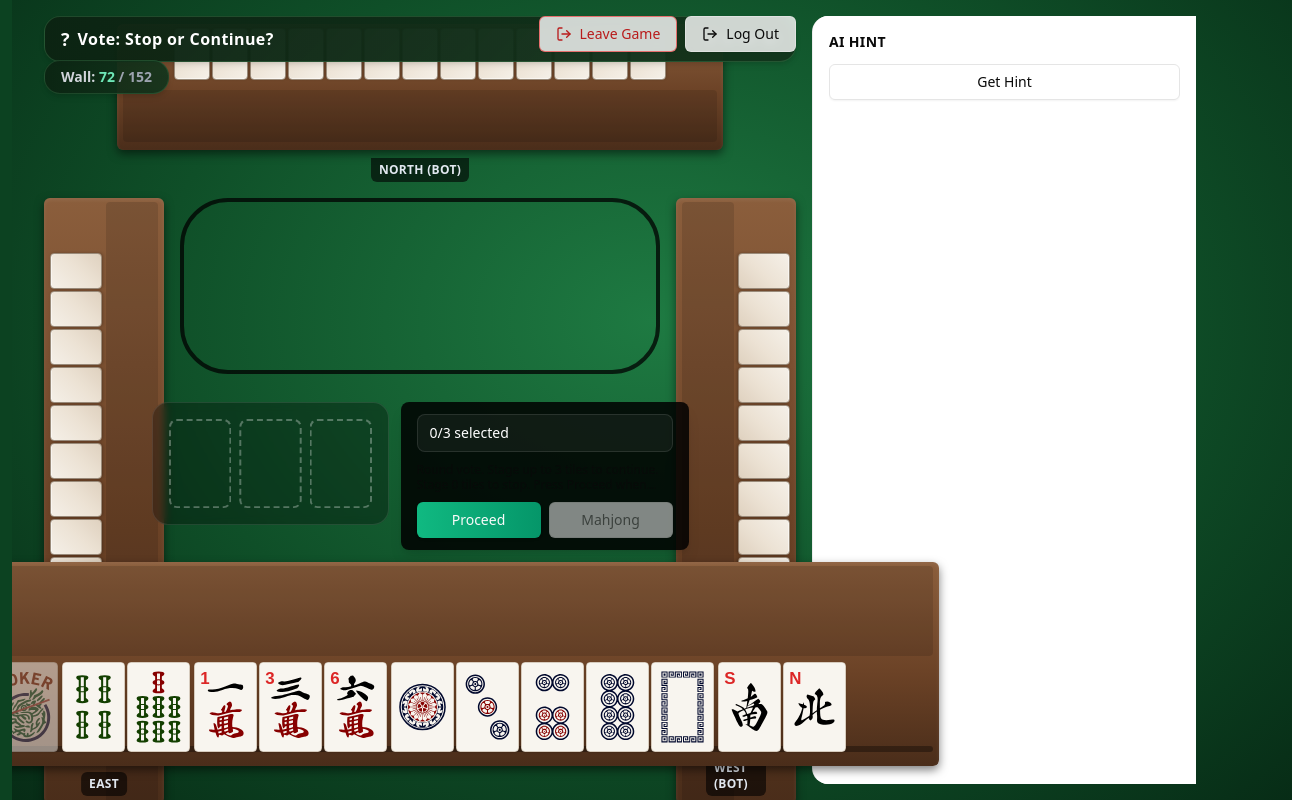
Scenario: US-005: Charleston Voting (Stop/Continue) › Test 2: Vote submission (AC-2, AC-3) › shows "You voted to STOP" message after voting Stop
Click the button with test id "proceed-button" at (478, 520), box [416,502,540,538]
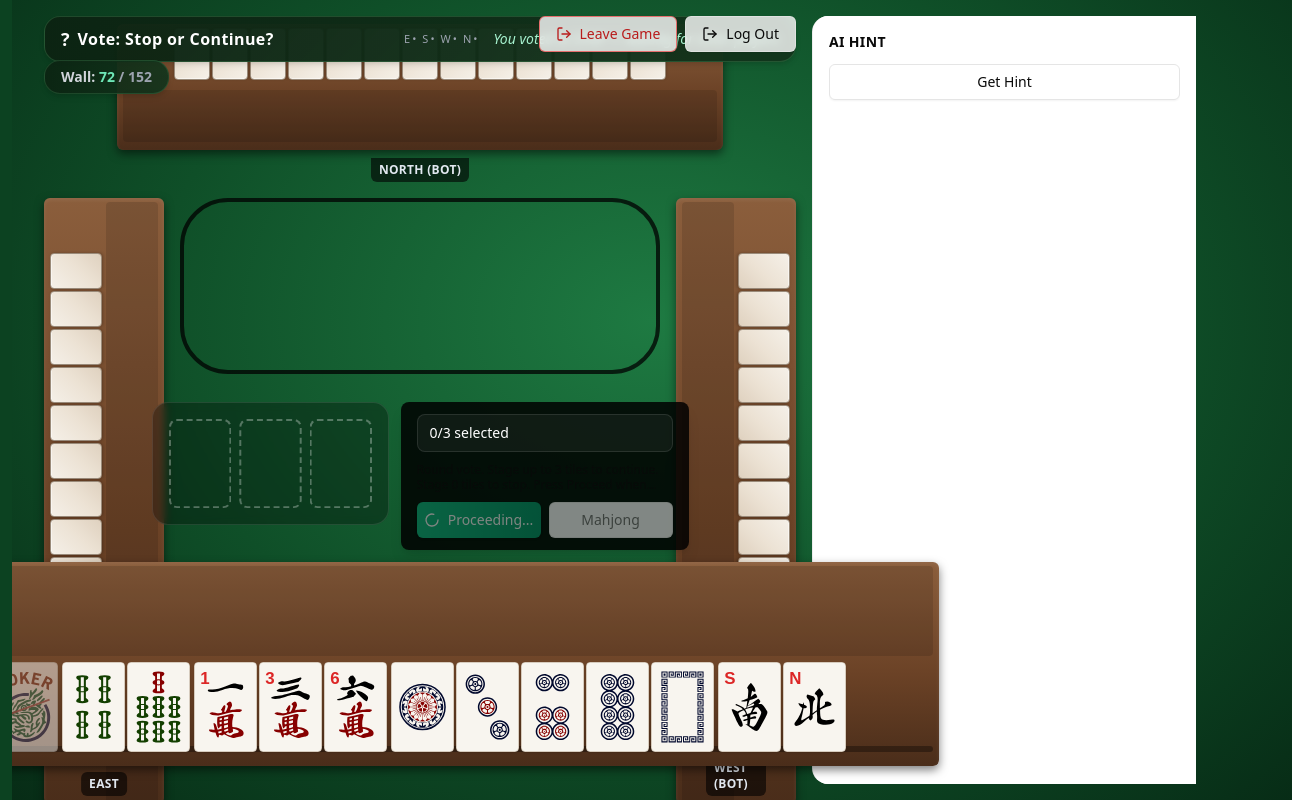
Expected: the text with test id "charleston-status-message" reads "You voted to STOP — waiting for other players", [493,29,779,48]
